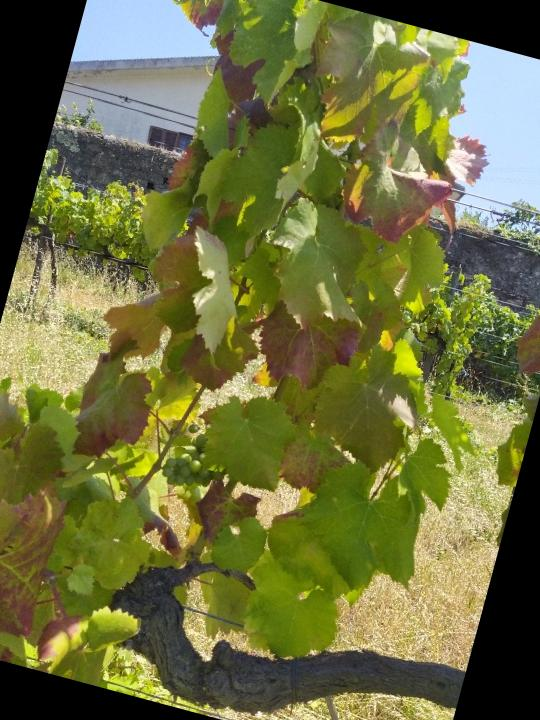grape: (154, 414, 228, 501)
